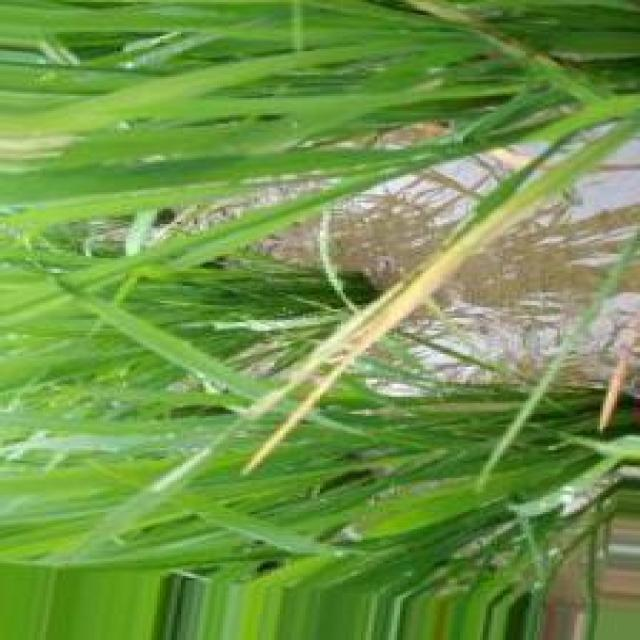Rice Tungro: (244, 99, 635, 473), (601, 352, 627, 432)
